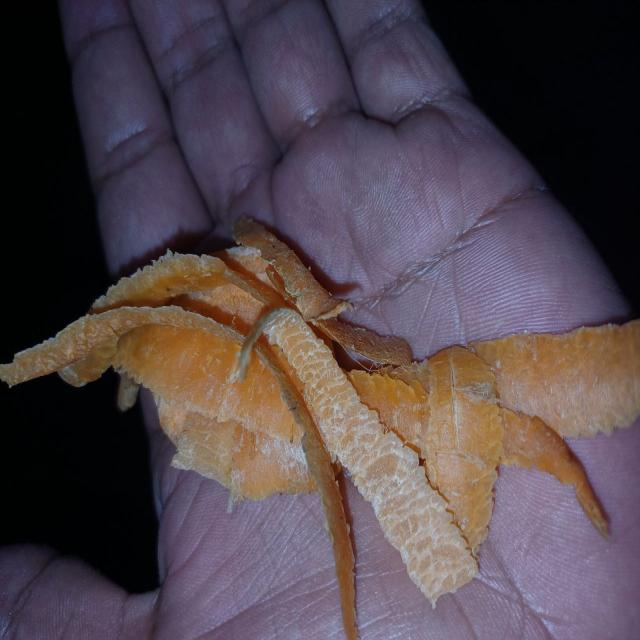organic: (2, 211, 640, 604)
